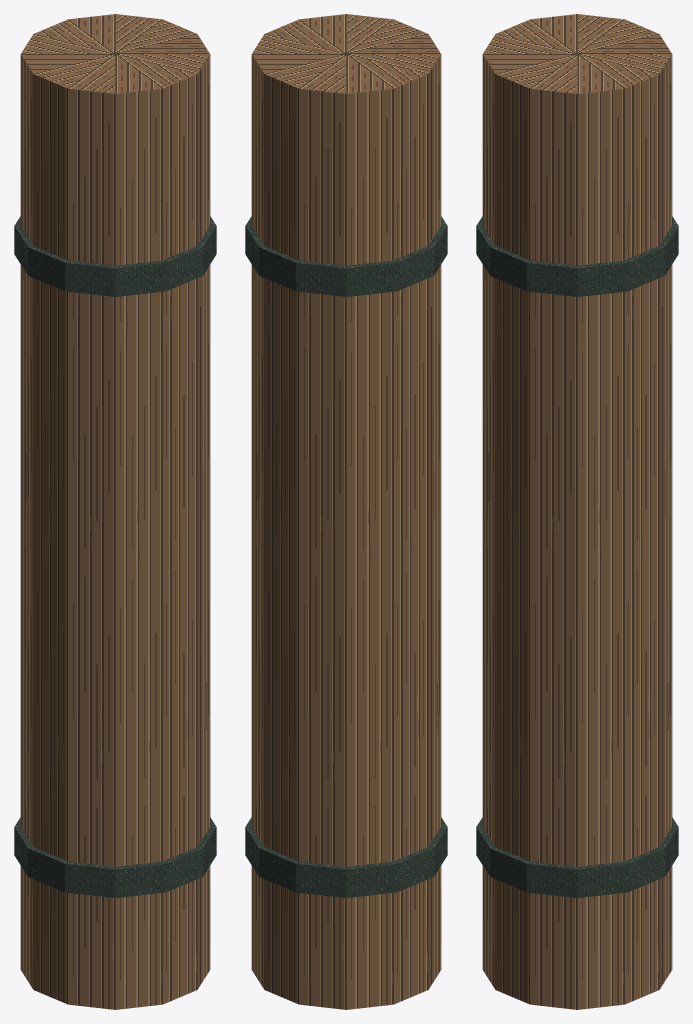
The model's file is dock_piling.gltf.
3 renders of one model, left to right at view 1: azimuth 30°, elevation 25°; view 2: azimuth 150°, elevation 25°; view 3: azimuth 270°, elevation 25°, orthographic.
Parts seen in each view (by area): view 1: timber_pile, band (×2); view 2: timber_pile, band (×2); view 3: timber_pile, band (×2).
Part boxes in pixels (x1=…): timber_pile: x1=20, y1=14, x2=210, y2=1009; band (×2): x1=14, y1=216, x2=216, y2=897; timber_pile: x1=251, y1=14, x2=441, y2=1009; band (×2): x1=245, y1=216, x2=447, y2=897; timber_pile: x1=482, y1=14, x2=672, y2=1009; band (×2): x1=476, y1=216, x2=678, y2=897.
Bounding box in the file's own units: 0.4 × 2 × 0.4.
Materials: 2 (2 with a texture image).
